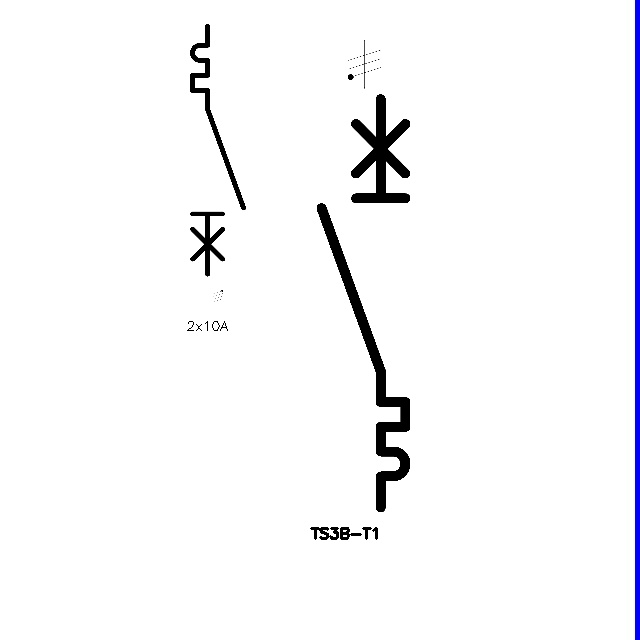interruptor_termomagnetico: (311, 88, 416, 518), (186, 20, 250, 281)
